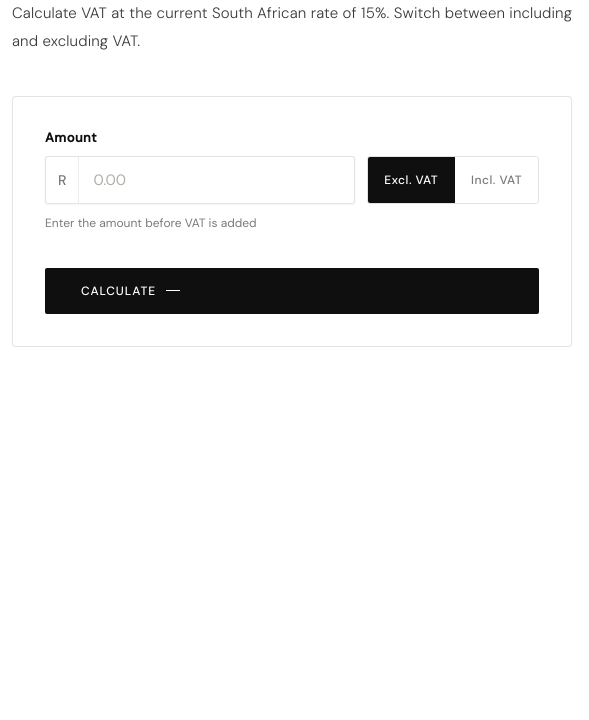
Test: VatCalculator › GIVEN an amount INCLUDING VAT (incl. mode) › WHEN R 1,150 incl. VAT is entered, THEN the results section appears
Type "1150" into the number field with placeholder "0.00". click: (217, 180)
box: [80, 158, 354, 200]
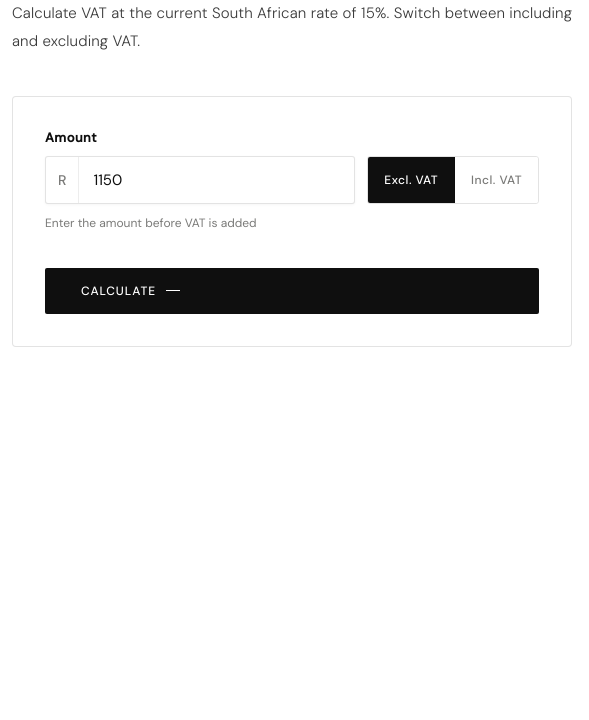
Click the button with class "calc-toggle-btn" showing "Incl. VAT". click: (497, 180)
box: [455, 156, 538, 202]
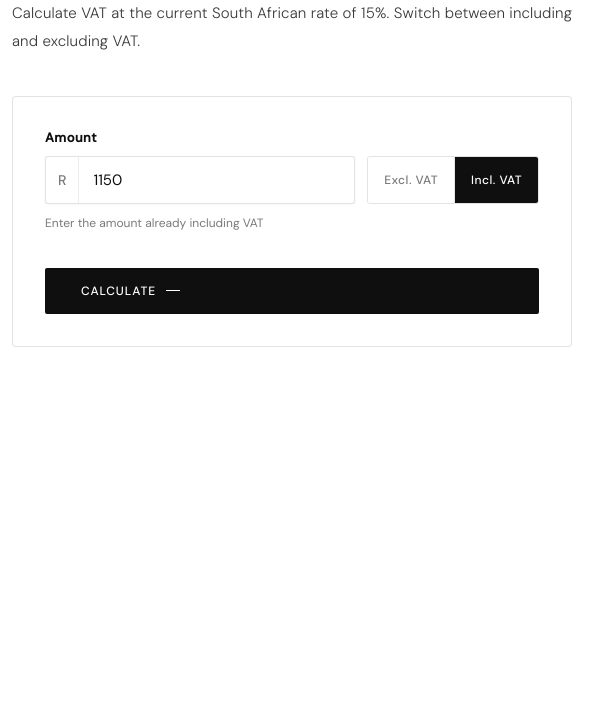
Click the button with class "calc-submit". click: (119, 290)
box: [45, 268, 539, 314]
(page scrolled)
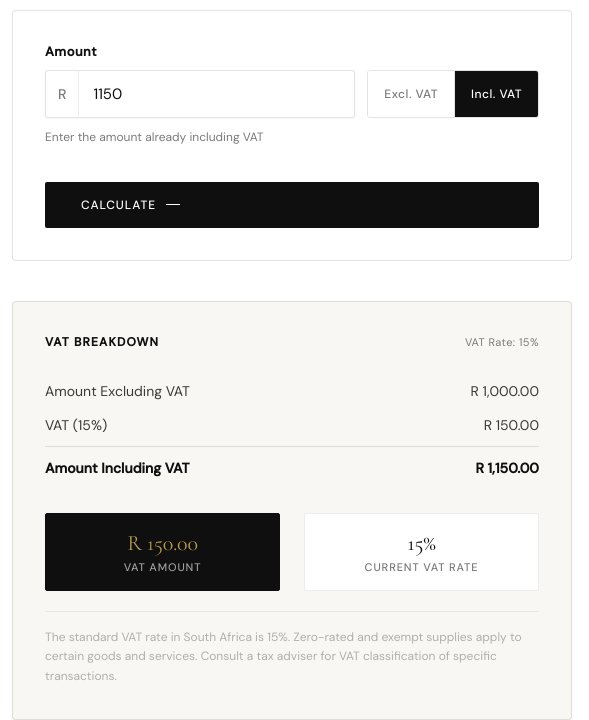
Now the element with class "calc-results" is shown, box [12, 300, 572, 719]
